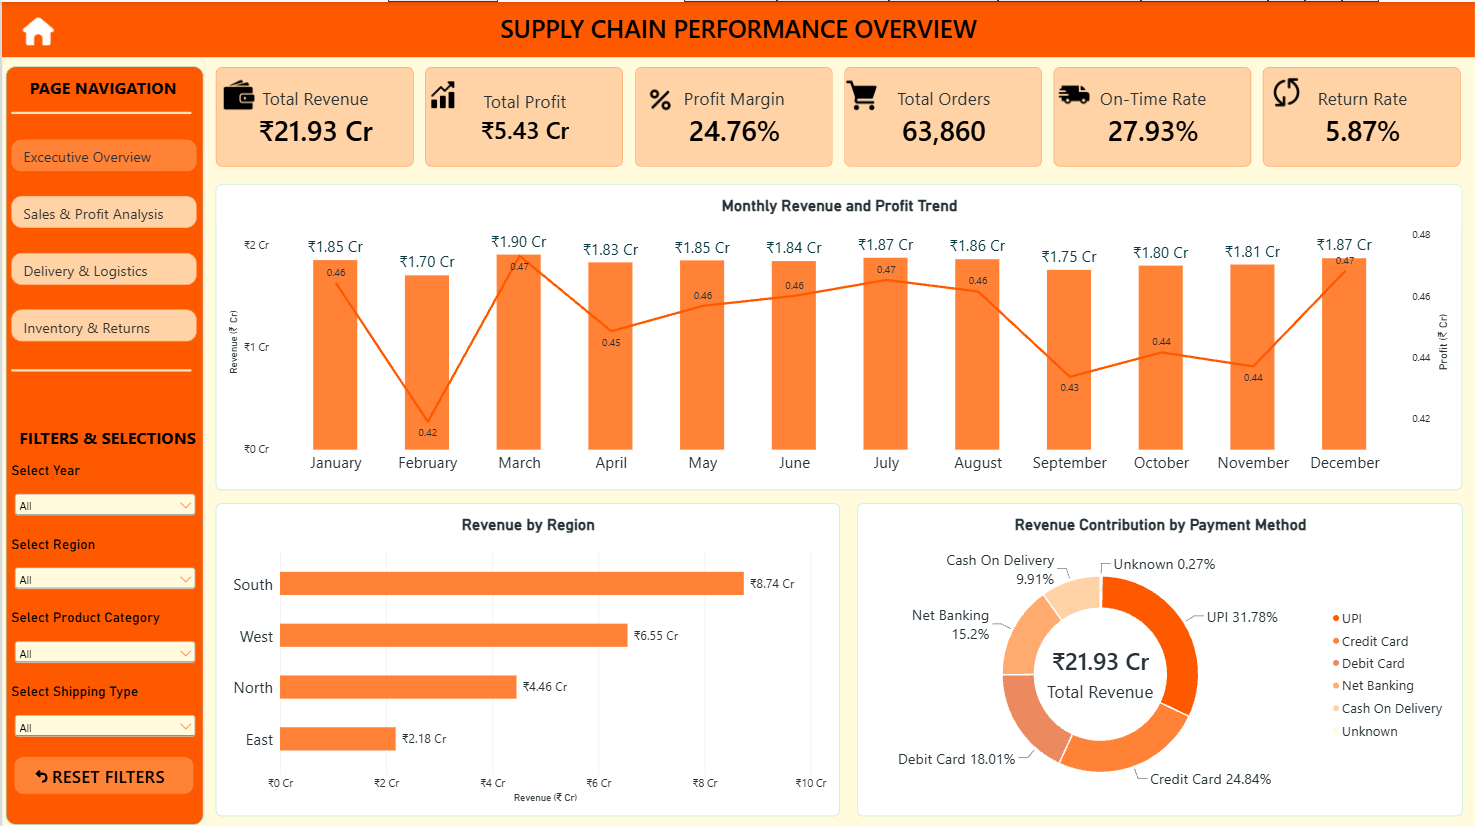

Layout of this report page (visuals, bound fields, positions):
{"tool":"powerbi","page":{"name":"Excecutive Overview","canvas":[1920,1080],"ordinal":1},"visuals":[{"type":"shape","box":[0,0,1920,72],"z":0},{"type":"textbox","box":[0,0,1920,96],"z":1000},{"type":"cardVisual","fields":{"Data":["_Measures.Total Revenue(Cr)","_Measures.Total Profit(Cr)","_Measures.Overall Profit Margin","_Measures.Total Orders","_Measures.On-Time Delivery Rate","_Measures.Overall Return Rate"]},"box":[278,84,1626,130],"z":2000},{"type":"lineClusteredColumnComboChart","title":"Monthly Revenue and Profit Trend","fields":{"Category":["Supply_Chain.Order_Date.Variation.Date Hierarchy.Month"],"Y":["_Measures.Total Revenue(Cr)"],"Y2":["_Measures.Total Profit(Cr)"]},"box":[279.2,238.6,1624.8,398.4],"z":3000},{"type":"shape","box":[0,72,264,1008],"z":4000},{"type":"barChart","title":"Revenue by Region ","fields":{"Category":["Supply_Chain.Region"],"Y":["_Measures.Total Revenue(Cr)"]},"box":[279.2,653.7,813.6,408],"z":5000},{"type":"donutChart","title":"Revenue Contribution by Payment Method","fields":{"Category":["Supply_Chain.Payment Method Display"],"Y":["_Measures.Total Revenue(Cr)"]},"box":[1114.2,653.7,789.7,408],"z":6000},{"type":"slicer","title":"Select Year ","fields":{"Values":["Supply_Chain.Order_Date.Variation.Date Hierarchy.Year"]},"box":[0,600,264,72],"z":7000},{"type":"slicer","title":"Select Region","fields":{"Values":["Supply_Chain.Region"]},"box":[0,696,264,72],"z":8000},{"type":"slicer","title":"Select Product Category","fields":{"Values":["Supply_Chain.Product_Category"]},"box":[0,792,264,72],"z":9000},{"type":"slicer","title":"Select Shipping Type","fields":{"Values":["Supply_Chain.Shipping_Type"]},"box":[0,888,264,72],"z":10000},{"type":"pageNavigator","box":[0,168,264,288],"z":11000},{"type":"textbox","box":[0,96,264,72],"z":12000},{"type":"shape","box":[0,120,256,32],"z":13000},{"type":"shape","box":[0,456,256,32],"z":14000},{"type":"textbox","box":[0,552,264,72],"z":15000},{"type":"actionButton","box":[4,976,256,64],"z":16000},{"type":"actionButton","box":[0,0,95,70],"z":17000},{"type":"image","box":[279.2,95.4,50,50.1],"z":18000},{"type":"image","box":[544,95.4,50,50],"z":19000},{"type":"image","box":[827.9,102.6,50,50],"z":20000},{"type":"image","box":[1090.4,95.4,50,50],"z":21000},{"type":"image","box":[1367.1,95.4,50,50],"z":22000},{"type":"image","box":[1643.9,93.1,50,50],"z":23000}]}

Visuals, with their boxes in screenshot pixels (x1, y1, x2, y2), scaled from the page's 1920x1080 canvas onto the 1475x826 screenshot:
shape: locate(0, 0, 1474, 55)
textbox: locate(0, 0, 1474, 73)
cardVisual - _Measures.Total Revenue(Cr) x _Measures.Total Profit(Cr): locate(214, 64, 1463, 164)
"Monthly Revenue and Profit Trend" lineClusteredColumnComboChart: locate(214, 182, 1463, 487)
shape: locate(0, 55, 203, 825)
"Revenue by Region " barChart: locate(214, 500, 840, 812)
"Revenue Contribution by Payment Method" donutChart: locate(856, 500, 1463, 812)
"Select Year " slicer: locate(0, 459, 203, 514)
"Select Region" slicer: locate(0, 532, 203, 587)
"Select Product Category" slicer: locate(0, 606, 203, 661)
"Select Shipping Type" slicer: locate(0, 679, 203, 734)
pageNavigator: locate(0, 128, 203, 349)
textbox: locate(0, 73, 203, 128)
shape: locate(0, 92, 197, 116)
shape: locate(0, 349, 197, 373)
textbox: locate(0, 422, 203, 477)
actionButton: locate(3, 746, 200, 795)
actionButton: locate(0, 0, 73, 54)
image: locate(214, 73, 253, 111)
image: locate(418, 73, 456, 111)
image: locate(636, 78, 674, 117)
image: locate(838, 73, 876, 111)
image: locate(1050, 73, 1089, 111)
image: locate(1263, 71, 1301, 109)
